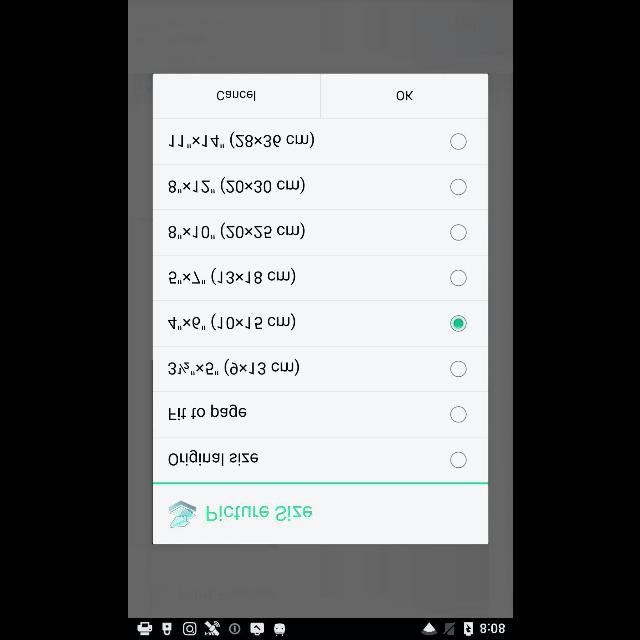checkbox: (448, 316, 466, 332), (450, 452, 466, 468), (449, 407, 465, 423), (449, 224, 465, 240), (449, 134, 465, 150), (450, 362, 466, 376), (450, 270, 464, 286), (450, 180, 466, 194)
image: (168, 500, 196, 528)
panel: (152, 73, 488, 544)
text: (168, 131, 314, 149), (168, 221, 304, 239), (168, 176, 304, 194), (168, 358, 298, 376), (167, 313, 295, 331), (168, 267, 296, 285), (205, 505, 312, 521), (168, 449, 258, 466), (168, 404, 246, 421)
textbutton: (152, 74, 320, 118), (320, 74, 488, 118)
